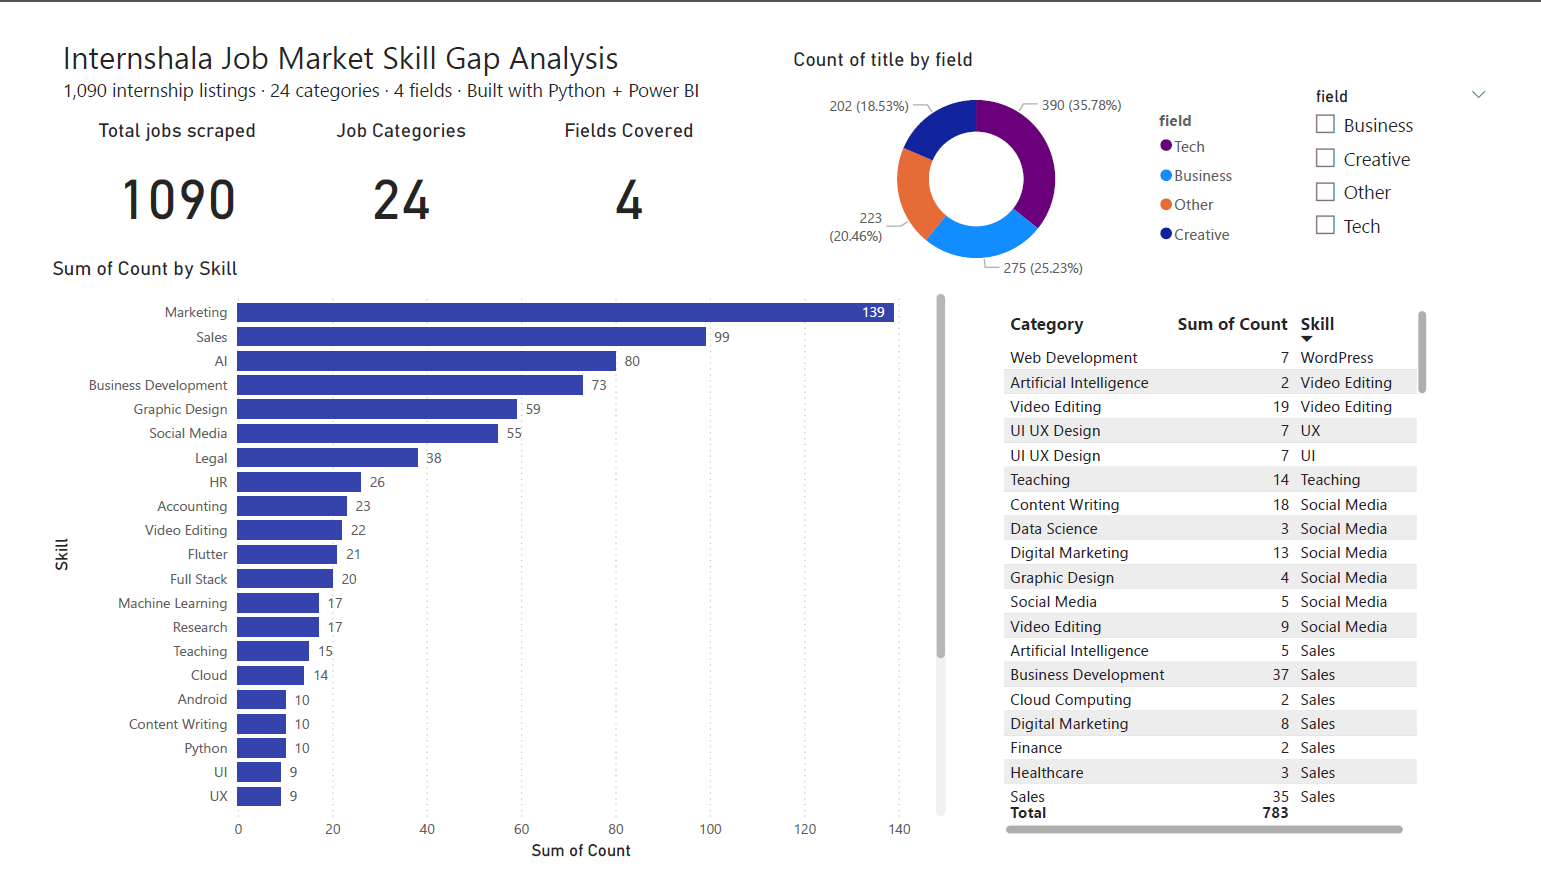

The dashboard page shown, as its layout file describes it:
{"tool":"powerbi","page":{"name":"Page 1","canvas":[1280,720],"ordinal":0},"visuals":[{"type":"textbox","box":[24.9,0,629.4,77.1],"z":0},{"type":"card","title":"Total jobs scraped","fields":{"Values":["CountNonNull(internshala_jobs.title)"]},"box":[30.6,76.4,195.3,108.2],"z":1},{"type":"card","title":"Job Categories","fields":{"Values":["Count(internshala_jobs.category)"]},"box":[225.9,76.4,191.6,108.2],"z":2},{"type":"card","title":"Fields Covered","fields":{"Values":["Count(internshala_jobs.field)"]},"box":[417.5,76.4,200.3,108.2],"z":3},{"type":"clusteredBarChart","fields":{"Category":["skill_counts.Skill"],"Y":["Sum(skill_counts.Count)"]},"box":[16.2,195.3,778.7,525],"z":4},{"type":"donutChart","fields":{"Category":["internshala_jobs.field"],"Y":["CountNonNull(internshala_jobs.title)"]},"box":[654.3,14.9,398.1,207.7],"z":5},{"type":"slicer","fields":{"Values":["internshala_jobs.field"]},"box":[1095.9,43.5,171.7,151.8],"z":6},{"type":"tableEx","fields":{"Values":["category_skills.Category","Sum(category_skills.Count)","category_skills.Skill"]},"box":[834.7,236.4,375.7,461.5],"z":7}]}

Visuals, with their boxes in screenshot pixels (x1, y1, x2, y2), scaled from the page's 1280x720 canvas onto the 1541x892 screenshot:
textbox: x1=30, y1=0, x2=788, y2=96
"Total jobs scraped" card: x1=37, y1=95, x2=272, y2=229
"Job Categories" card: x1=272, y1=95, x2=503, y2=229
"Fields Covered" card: x1=503, y1=95, x2=744, y2=229
clusteredBarChart - skill_counts.Skill x Sum(skill_counts.Count): x1=20, y1=242, x2=957, y2=891
donutChart - internshala_jobs.field x CountNonNull(internshala_jobs.title): x1=788, y1=18, x2=1267, y2=276
slicer - internshala_jobs.field: x1=1319, y1=54, x2=1526, y2=242
tableEx - category_skills.Category x Sum(category_skills.Count): x1=1005, y1=293, x2=1457, y2=865
